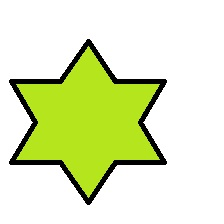star: (8, 38, 165, 205)
